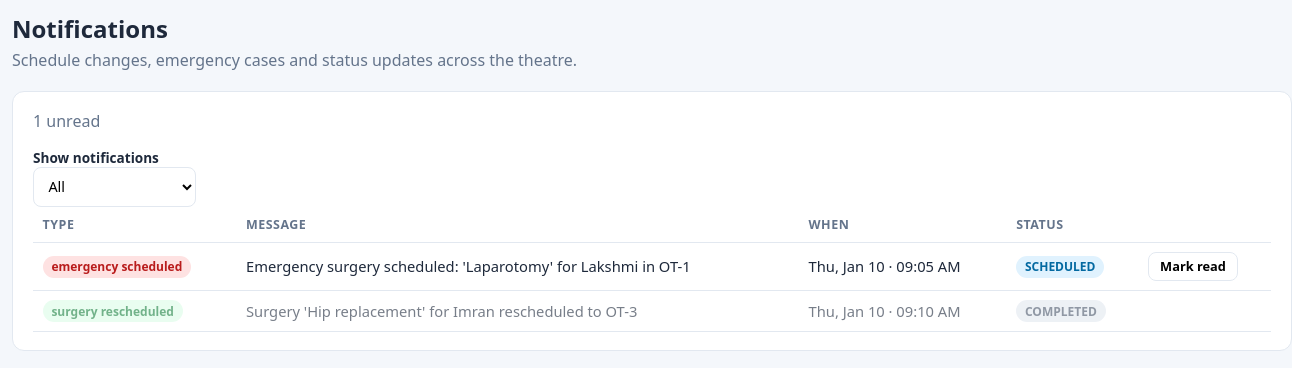
Scenario: NotificationsPage › filters to unread notifications
expect the text "Emergency surgery scheduled" is shown: met, box [246,256,691,276]
Step 1. Select "Unread only" in the dropdown labelled "Show notifications" → [114, 187], box [33,167,196,207]
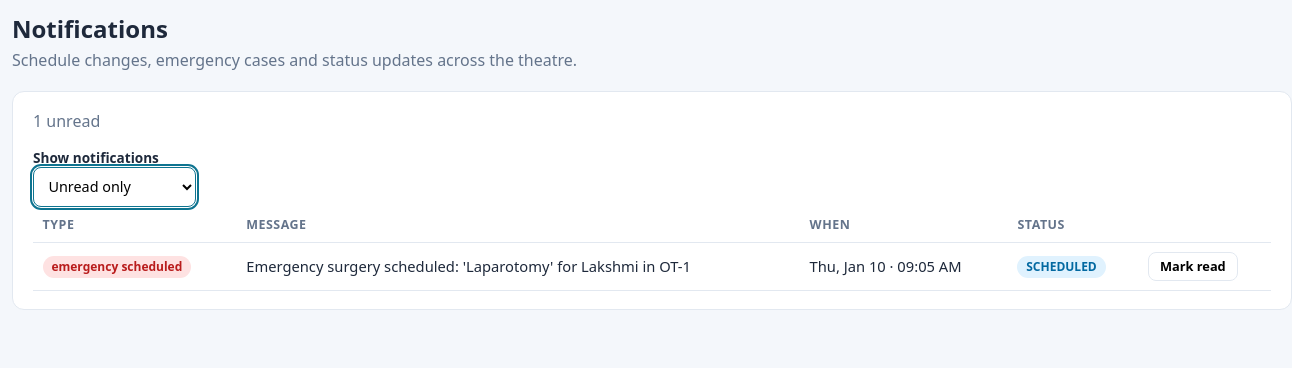
expect the text "Emergency surgery scheduled" is shown: met, box [246,256,691,276]
expect the text "rescheduled to OT-3" is gone: met
